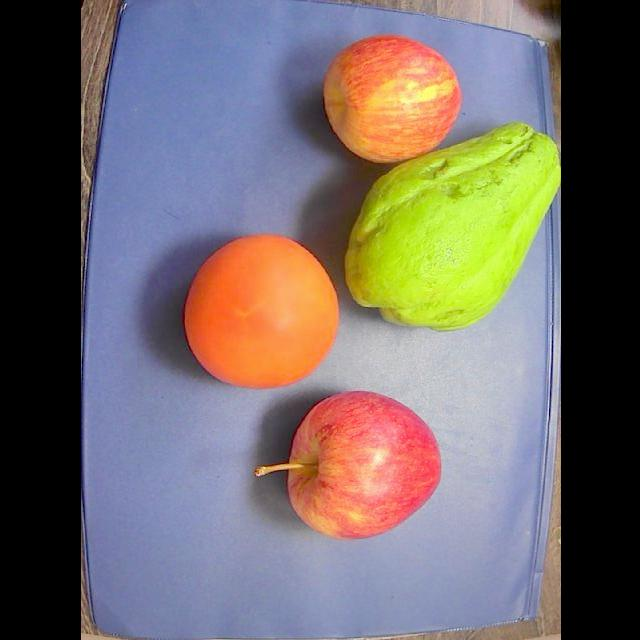chayote: (345, 123, 560, 332)
manzana: (255, 392, 440, 539), (323, 37, 461, 163)
tomate: (184, 235, 338, 389)
